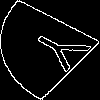Y: (25, 24, 100, 79)
